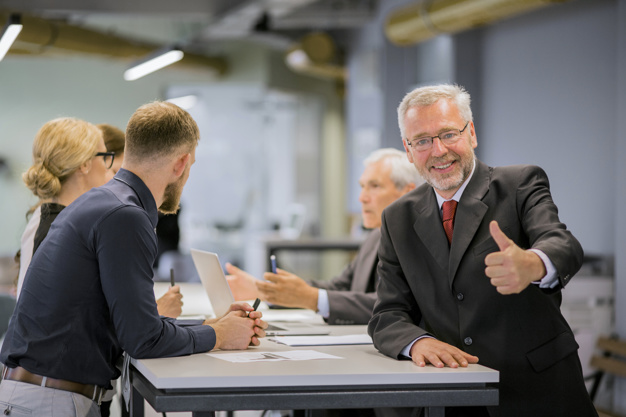thumbsup: (483, 219, 522, 295)
